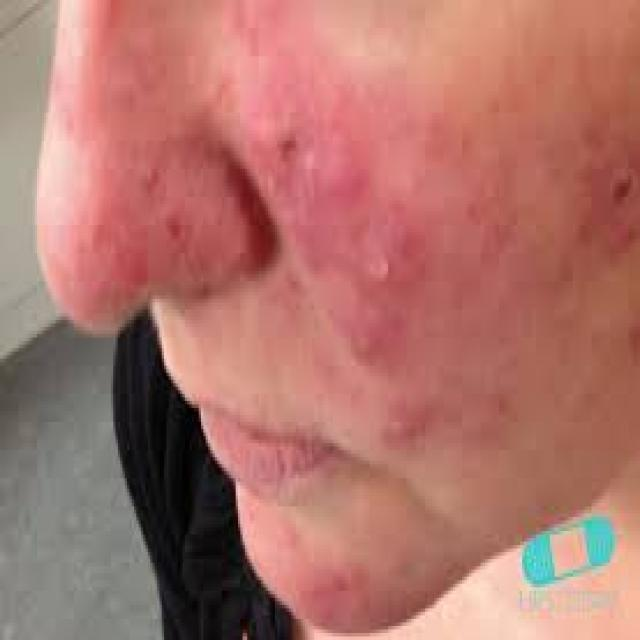Rosacea: (208, 5, 505, 452), (34, 9, 186, 333), (237, 501, 475, 640)
